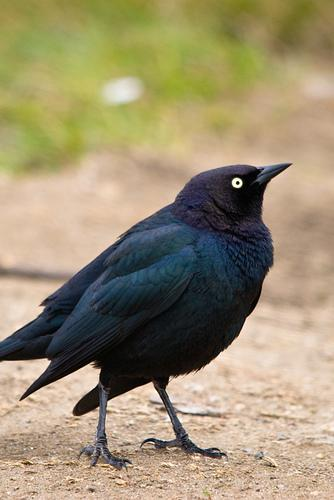009.Brewer_Blackbird: (1, 163, 298, 467)
